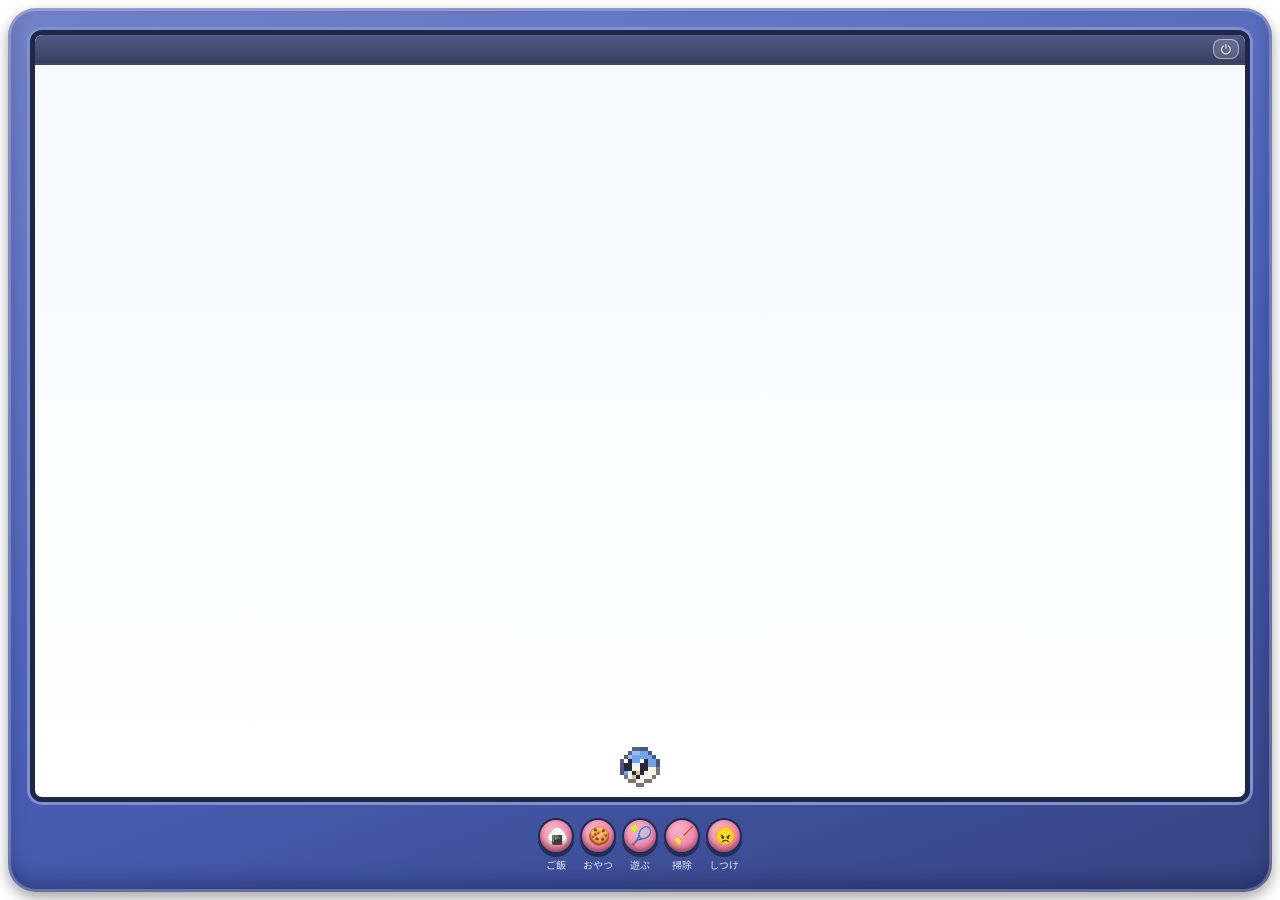
Test: App › reactions to the buttons › does not react when the action fails
Click the button named "ご飯": (556, 836) left=538, top=818, right=574, bottom=854
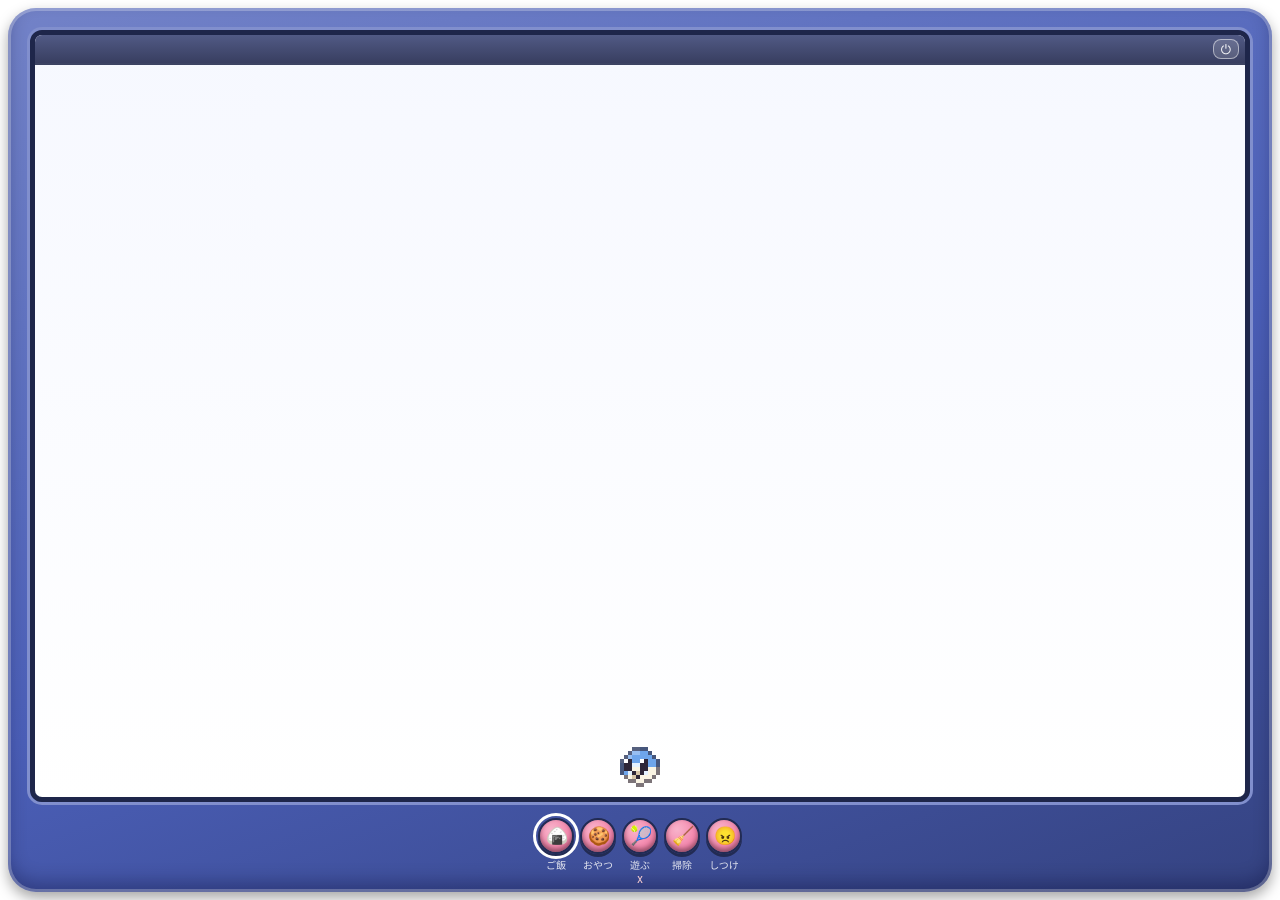
Expected: the message "x" is shown, left=637, top=872, right=643, bottom=886
